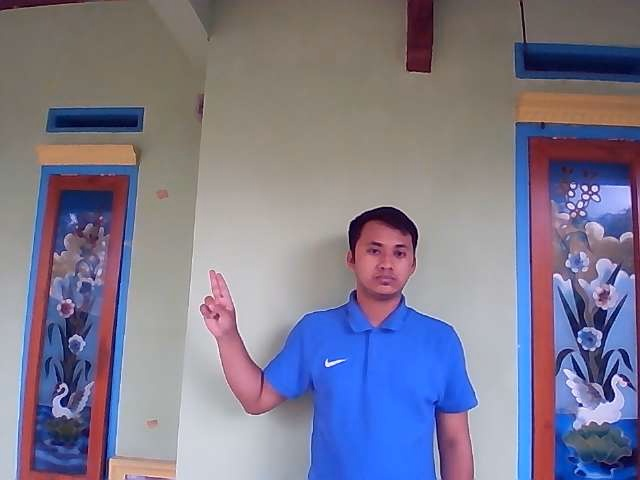U: (199, 269, 237, 335)
